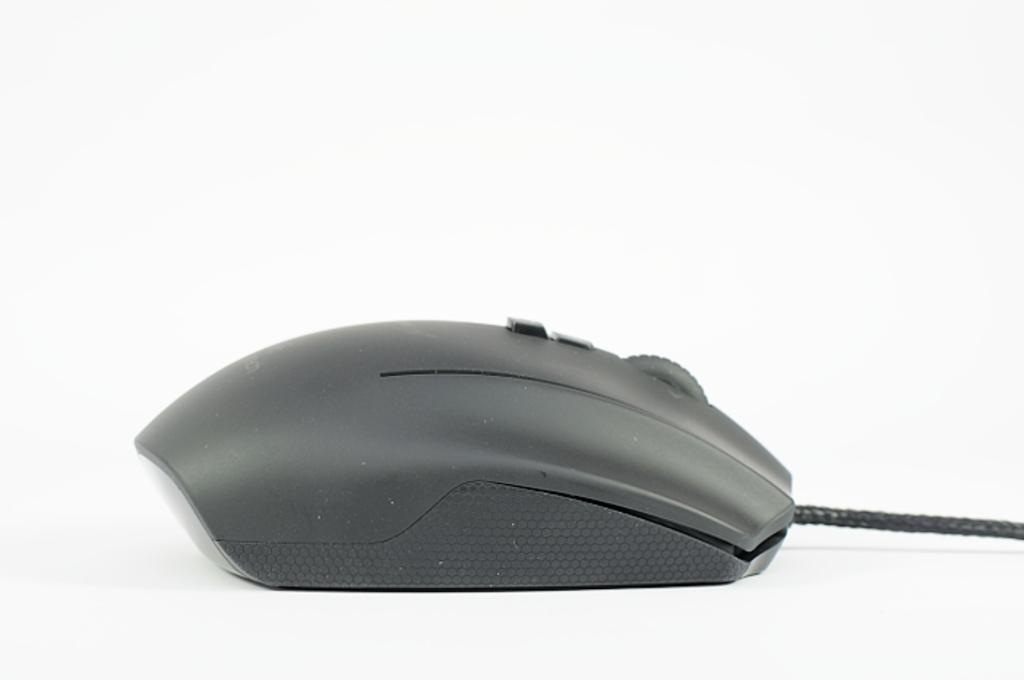Computer-mouse: (130, 316, 794, 595)
